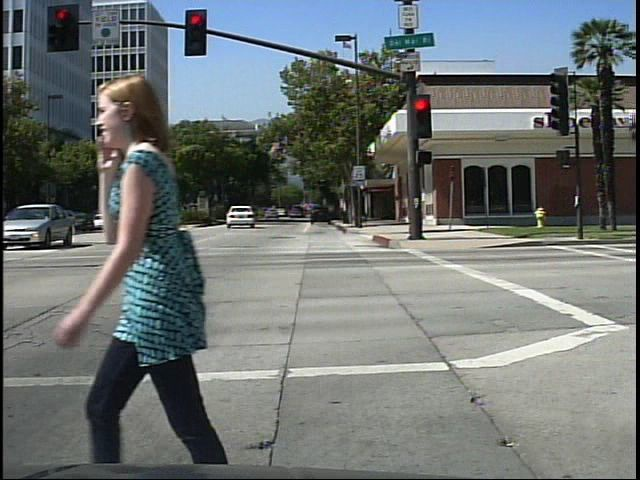person: (84, 63, 269, 466)
